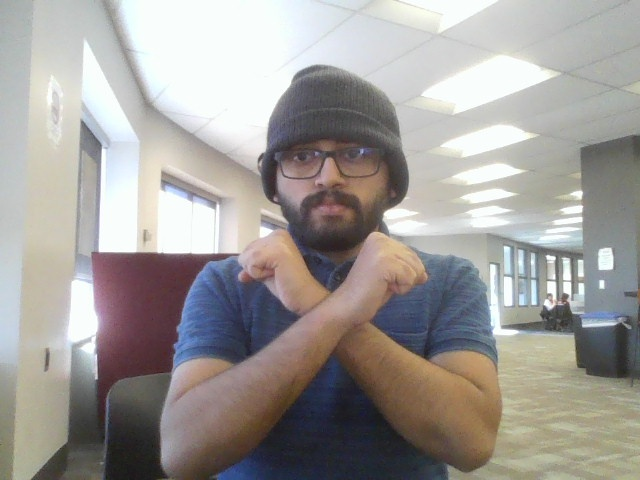start: (226, 223, 442, 367)
